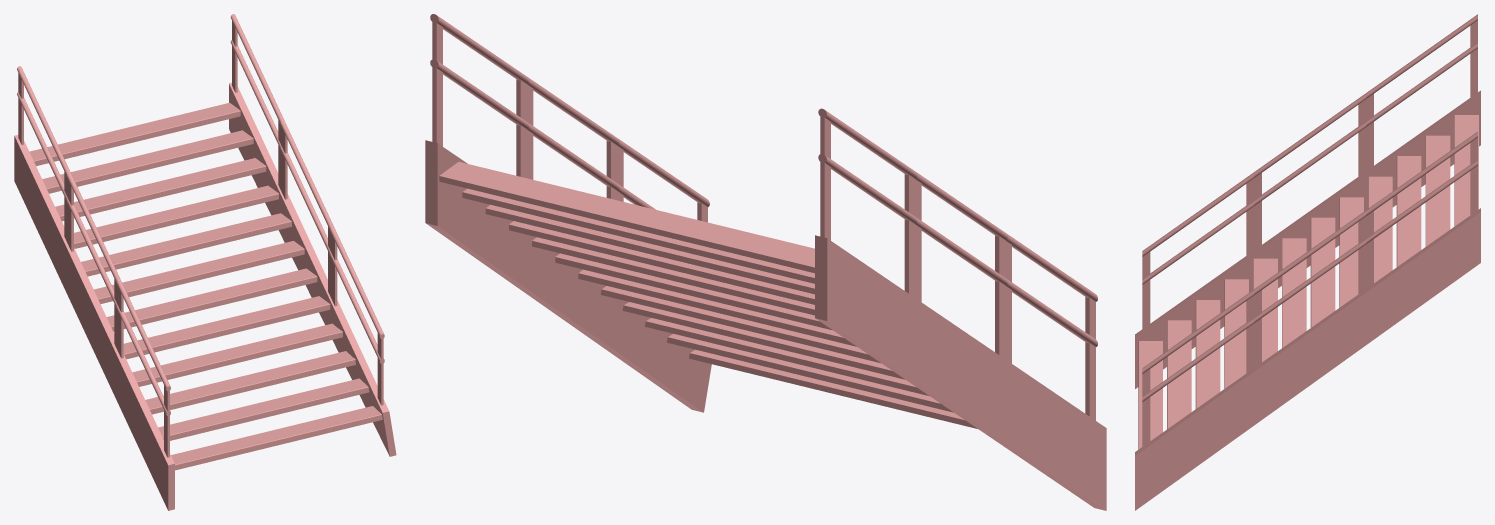
The model's file is mesh_Stairs.fbx.
3 renders of one model, left to right at view 1: azimuth 30°, elevation 25°; view 2: azimuth 150°, elevation 25°; view 3: azimuth 270°, elevation 25°, orthographic. The views are drawn at different scales.
Visible parts, largest first — view 1: stairs; view 2: stairs; view 3: stairs.
Part boxes in pixels (x1,y1,x2,y2): stairs: (14,14,396,510); stairs: (425,14,1106,510); stairs: (1135,14,1480,510).
Bounding box in the file's own units: 288 × 400 × 336.
